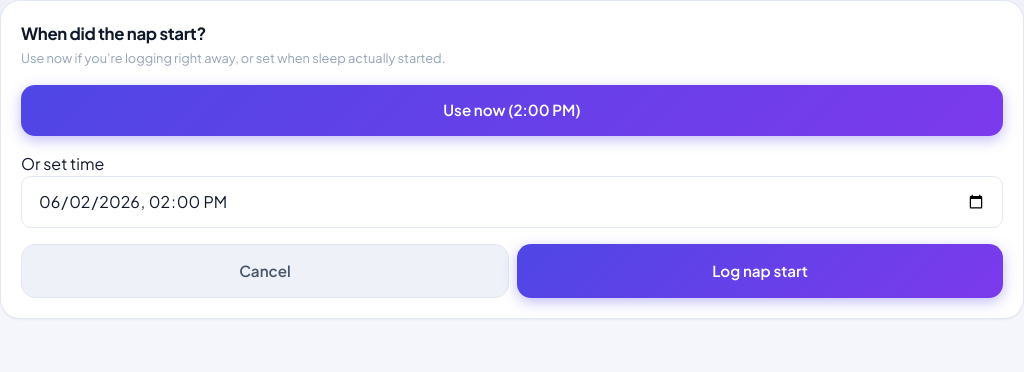
Test: LogTimePrompt › rejects future time
The image size is (1024, 372).
Replace the text in the field labelled "Or set time" with "2026-06-02T18:00" at (512, 202), box [21,176,1003,228]
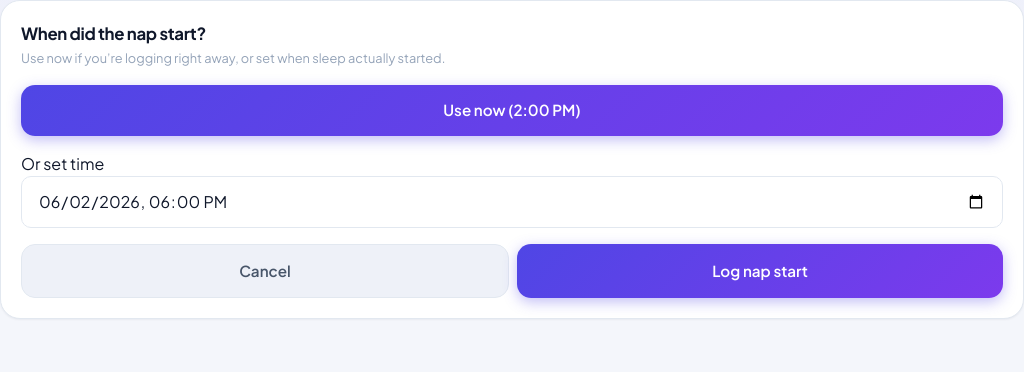
Click the button "Log nap start" at (760, 271), box [517,244,1003,298]
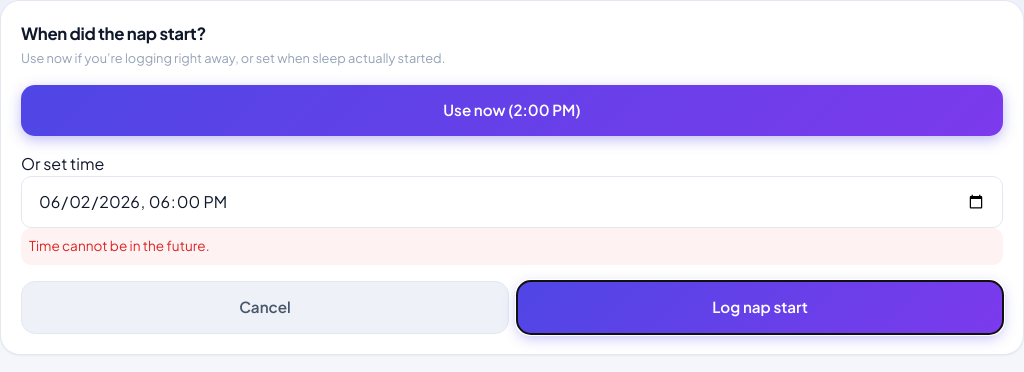
Expected: the text "Time cannot be in the future." is shown, [21,228,1003,264]
